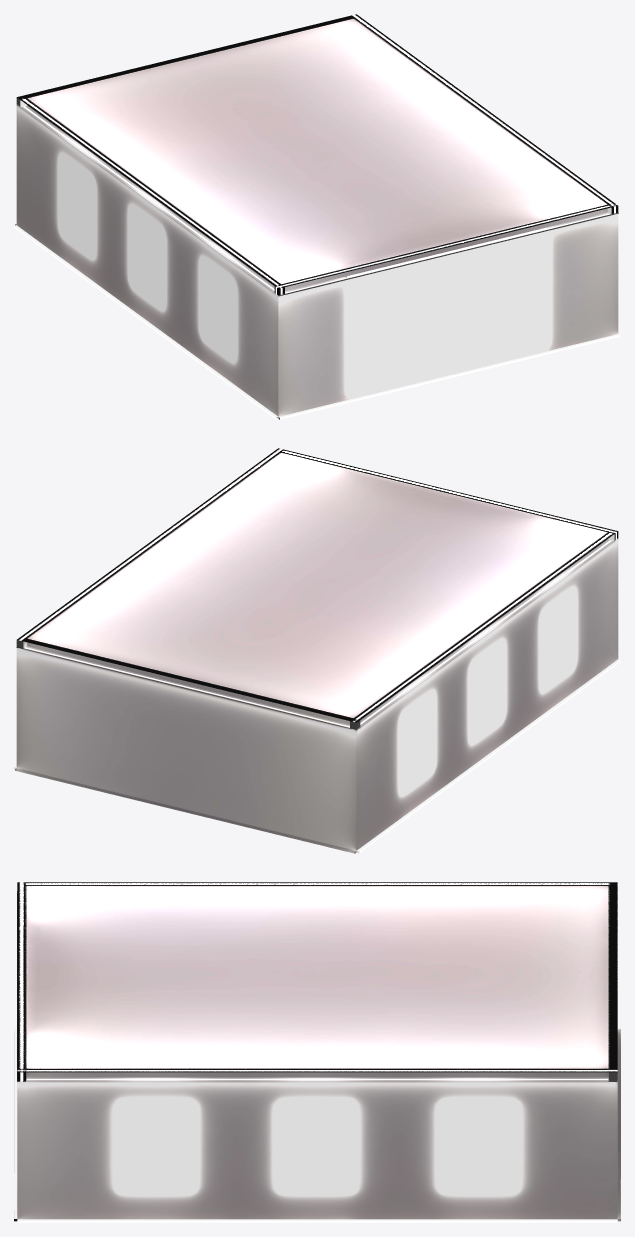
File: white-room1.glb
The picture shows the model from 3 angles, top to bottom: view 1: azimuth 30°, elevation 25°; view 2: azimuth 150°, elevation 25°; view 3: azimuth 270°, elevation 25°; orthographic projection. The views are drawn at different scales.
Visible parts, largest first — view 1: ceiling, fr-walls, walls-lr, lights lr, lights fr, lights, bigscreen; view 2: ceiling, fr-walls, walls-lr, lights lr, light; view 3: ceiling, walls-lr, fr-walls, lights lr, lights.
Part boxes in pixels (bbox=[...]): ceiling: bbox=[17, 14, 617, 288]; fr-walls: bbox=[15, 18, 619, 417]; walls-lr: bbox=[14, 16, 620, 418]; lights lr: bbox=[14, 15, 620, 418]; lights fr: bbox=[275, 204, 619, 419]; lights: bbox=[274, 203, 618, 419]; bigscreen: bbox=[347, 227, 546, 278]; ceiling: bbox=[17, 448, 617, 722]; fr-walls: bbox=[14, 534, 619, 853]; walls-lr: bbox=[14, 450, 620, 851]; lights lr: bbox=[21, 449, 620, 852]; light: bbox=[25, 647, 349, 727]; ceiling: bbox=[17, 882, 617, 1072]; walls-lr: bbox=[17, 882, 617, 1220]; fr-walls: bbox=[14, 882, 620, 1221]; lights lr: bbox=[17, 883, 617, 1222]; lights: bbox=[14, 882, 26, 1221].
Bounding box in the file's own units: 14.05 × 5.05 × 18.66.
8 materials, 6 textured.
